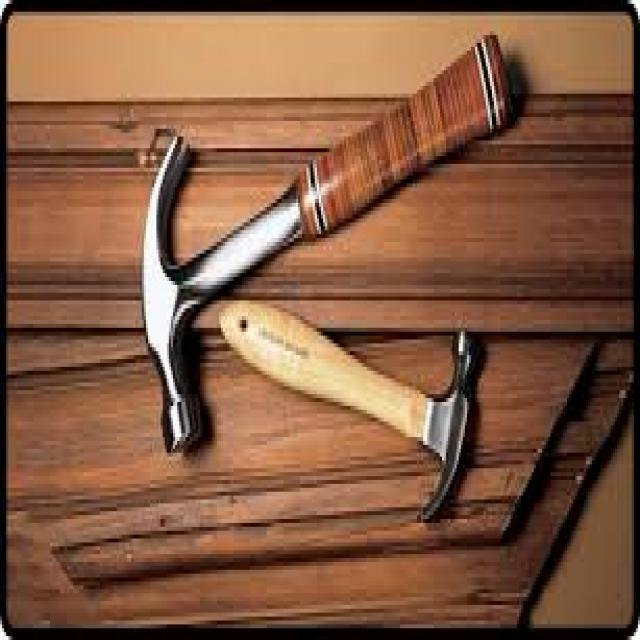hammer: (124, 12, 538, 490), (218, 291, 492, 543)
